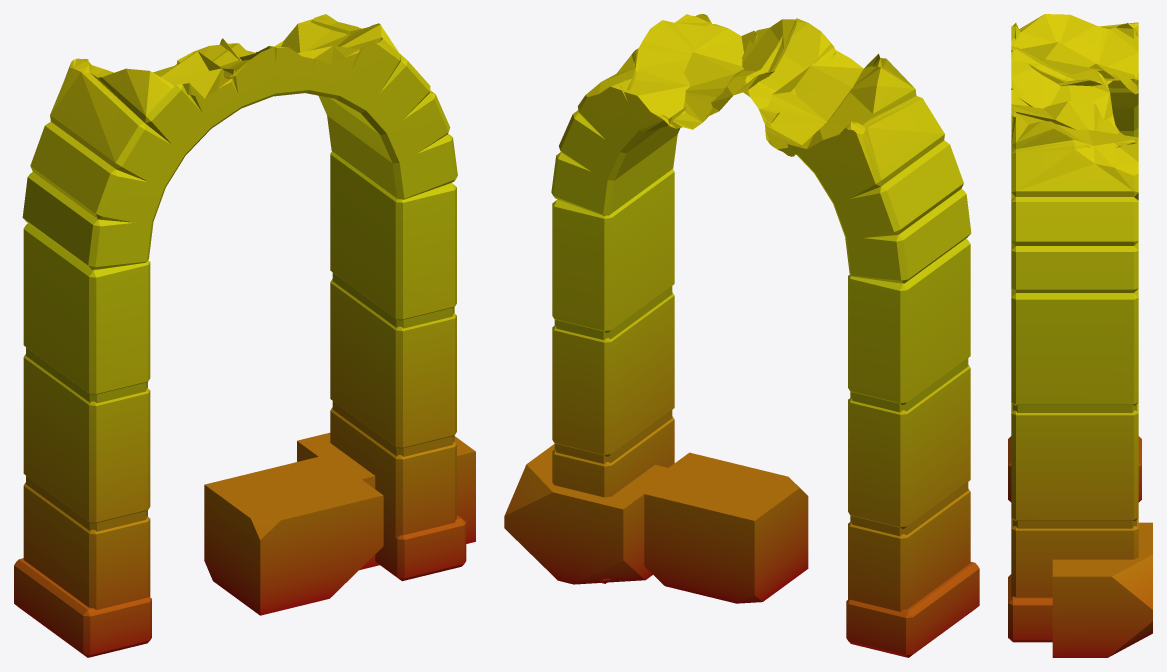
Rendered from door_broken.glb.
3 views of the same model, side by side, from view 1: azimuth 30°, elevation 25°; view 2: azimuth 150°, elevation 25°; view 3: azimuth 270°, elevation 25° (orthographic). The views are drawn at different scales.
Parts seen in each view (by area): view 1: door_broken; view 2: door_broken; view 3: door_broken.
Part boxes in pixels (<box>): door_broken: <box>14,14,475,657</box>; door_broken: <box>504,14,979,657</box>; door_broken: <box>1008,14,1152,657</box>.
Size of what is drawn, in the model's own units: 2.71 by 3.53 by 0.909.
